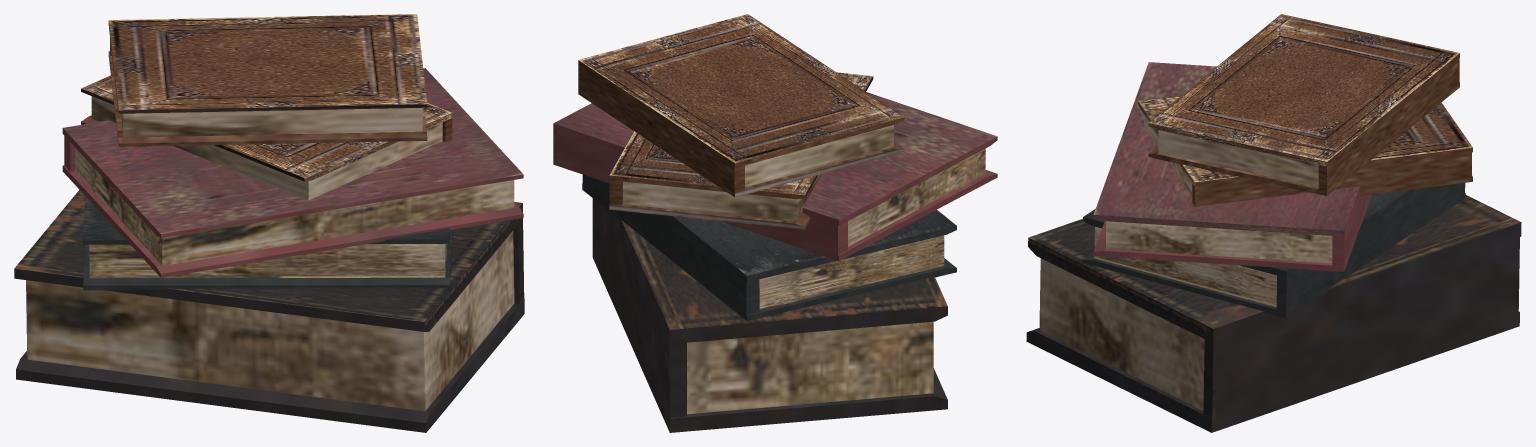
File: book_stack3.fbx
The picture shows the model from 3 angles, left to right: view 1: azimuth 30°, elevation 25°; view 2: azimuth 150°, elevation 25°; view 3: azimuth 270°, elevation 25°; orthographic projection. The views are drawn at different scales.
Parts seen in each view (by area): view 1: Cube.093; view 2: Cube.093; view 3: Cube.093.
Boxes of the visible parts, x1,y1,x2,y2 form: Cube.093: (14, 14, 524, 432); Cube.093: (553, 14, 997, 432); Cube.093: (1026, 14, 1521, 432).
Bounding box in the file's own units: 145 × 85.35 × 150.
